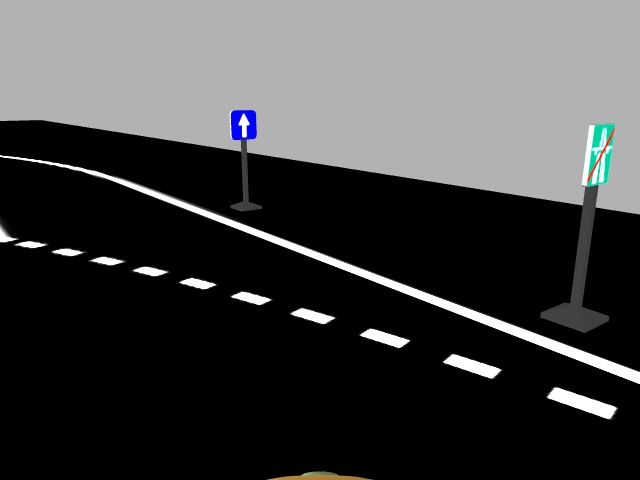HighwayExit: (581, 121, 614, 188), (228, 106, 258, 142)
